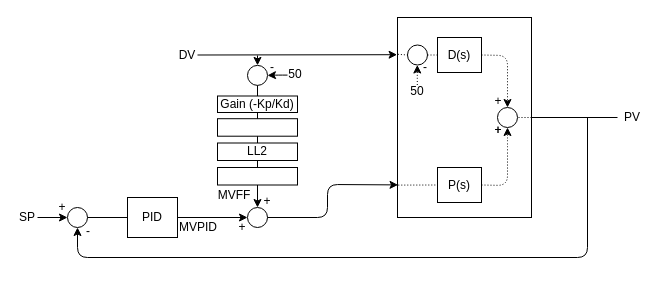
This 664x283 diagram has some shape labels left out. Each missing label, with the centre of its shape:
Delay: the point at 257,175
LL1: the point at 257,127
